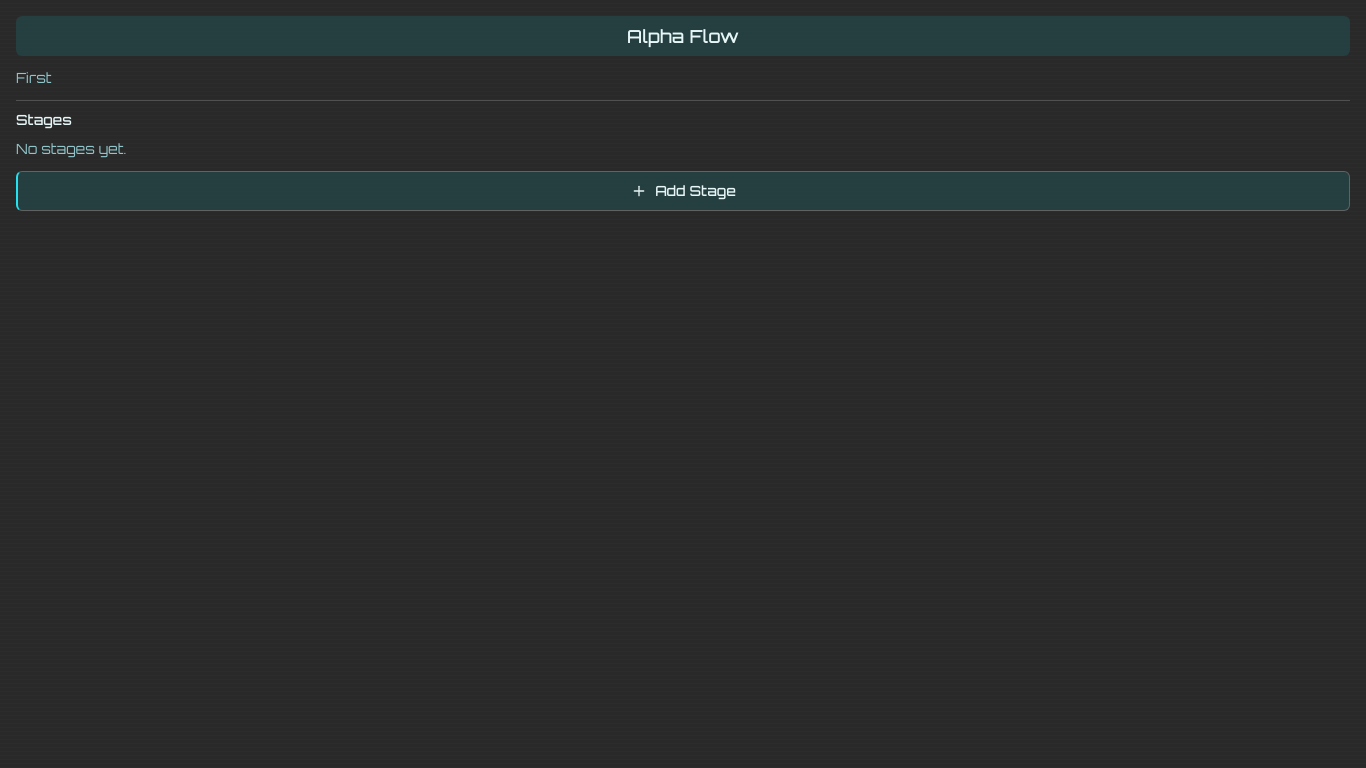
Test case: ProcessPanel – Process Detail View › opens edit dialog when three-dots button is clicked in detail view
This screenshot has width=1366, height=768.
Click the button titled "Edit process".
click(683, 36)  # box [16,16,1350,56]
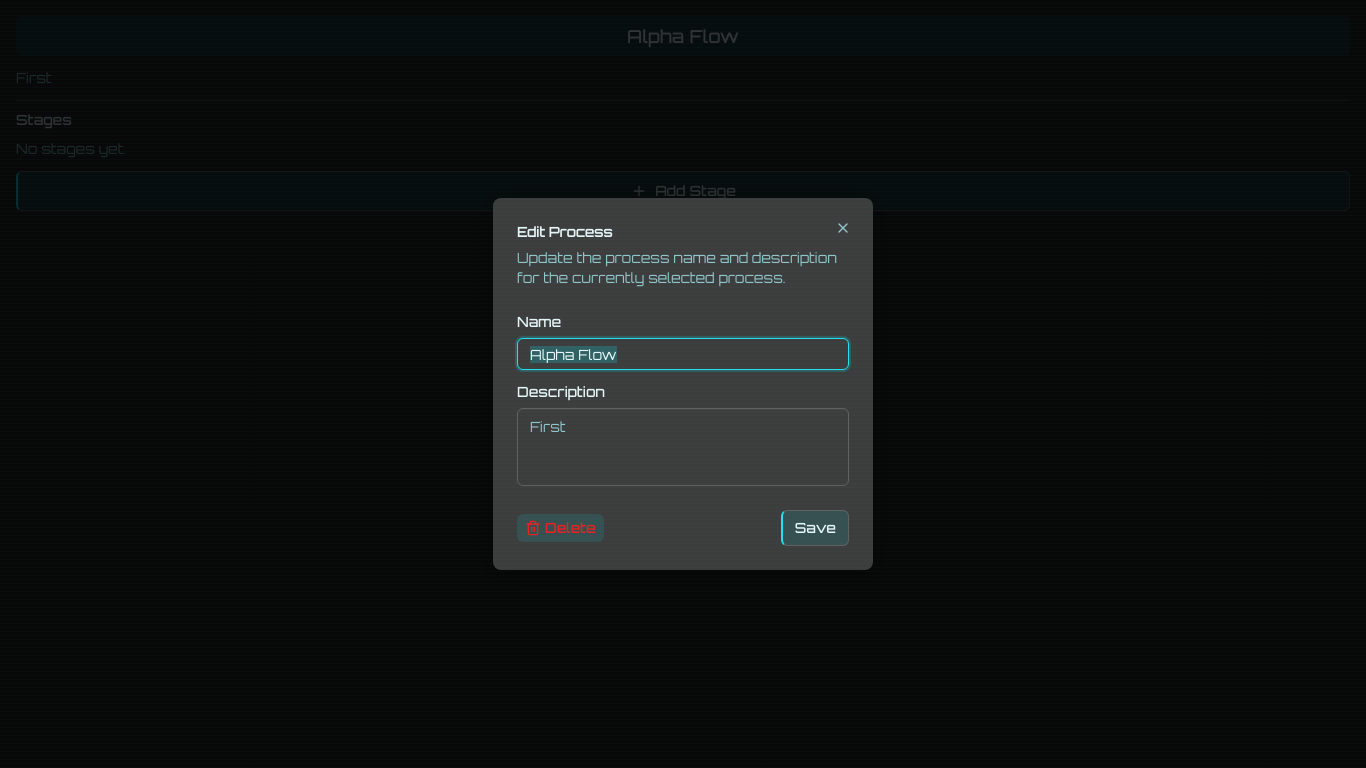
Now the field labelled "Name" is shown, box [517,338,849,370]
